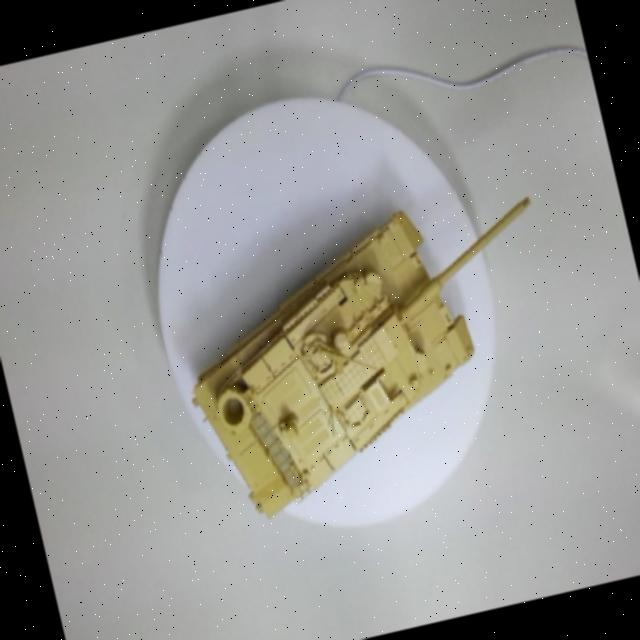korea tank: (112, 151, 595, 554)
